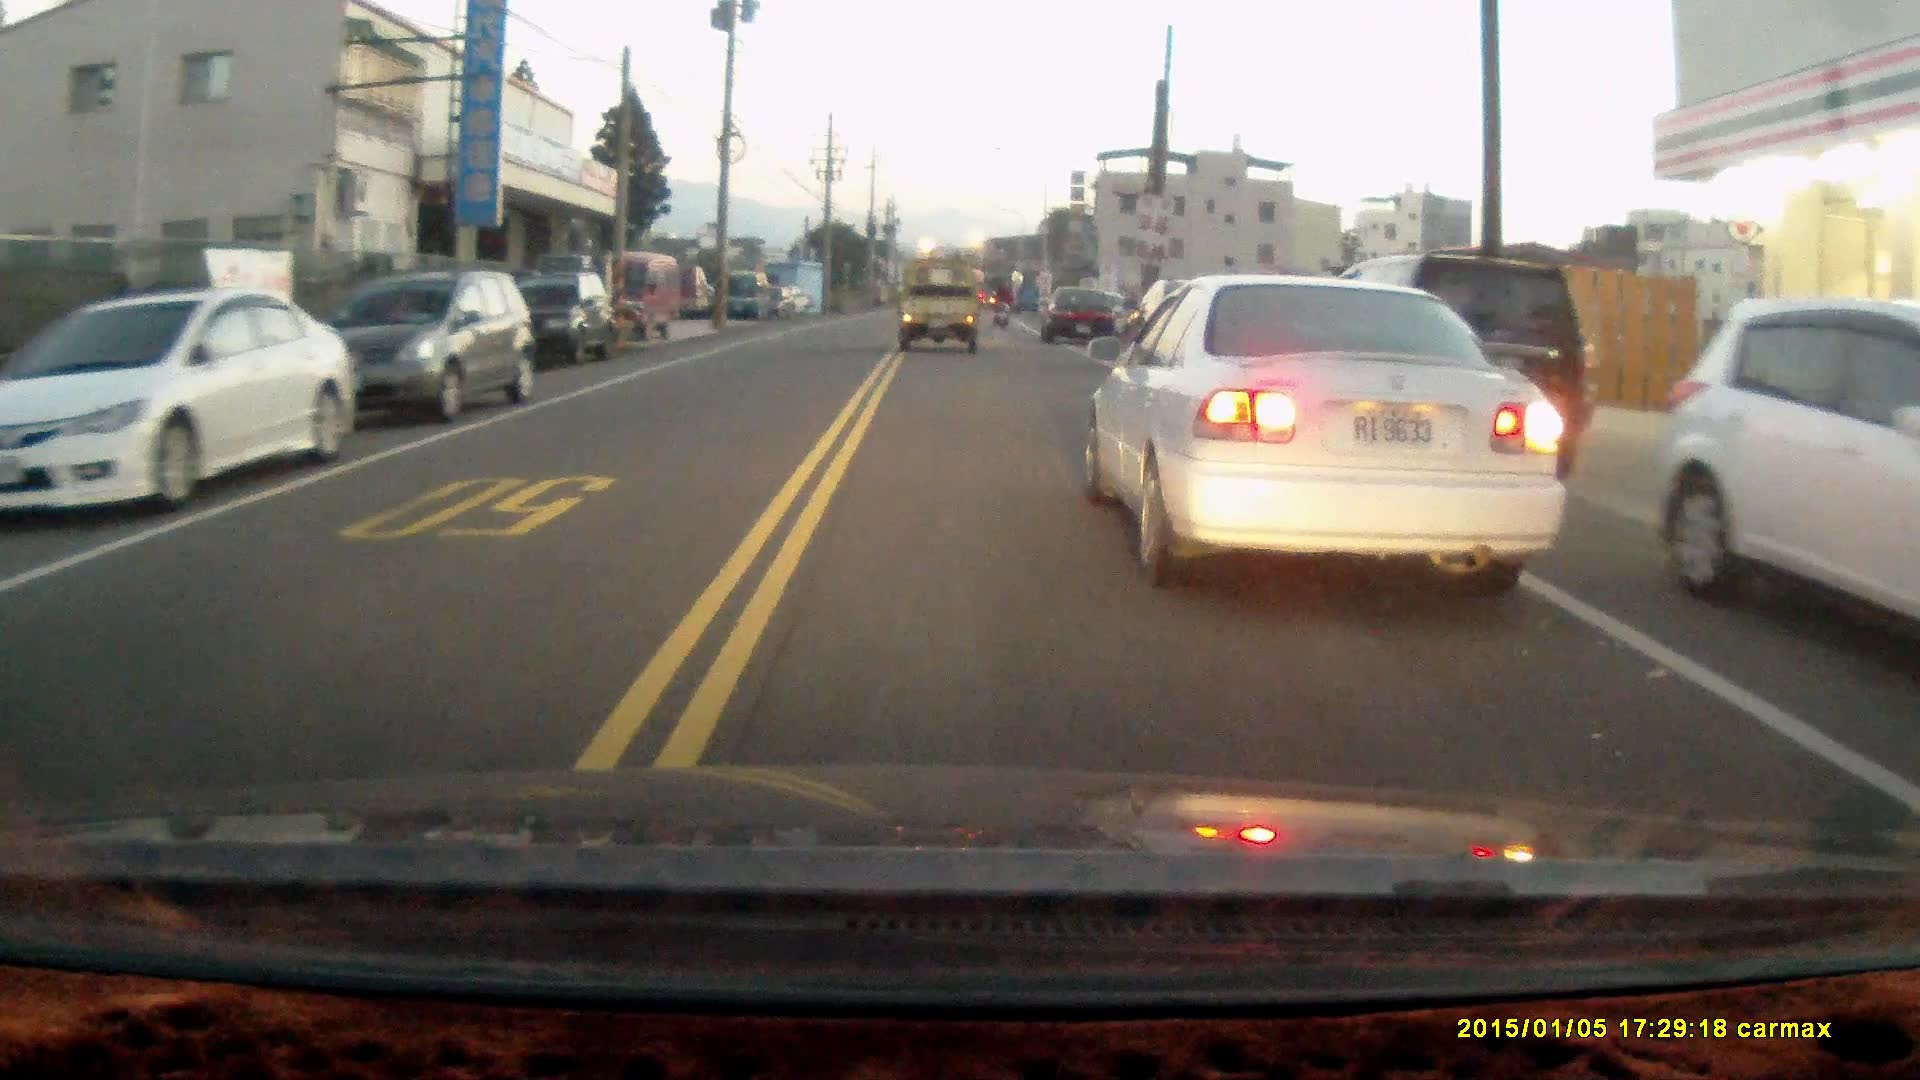rider: (989, 279, 1016, 327)
vehicle: (1077, 271, 1563, 584), (1665, 294, 1920, 650), (0, 288, 366, 525), (1331, 250, 1589, 481), (302, 269, 536, 424), (518, 273, 620, 369), (583, 250, 688, 340), (896, 265, 984, 366), (1045, 285, 1127, 344)
